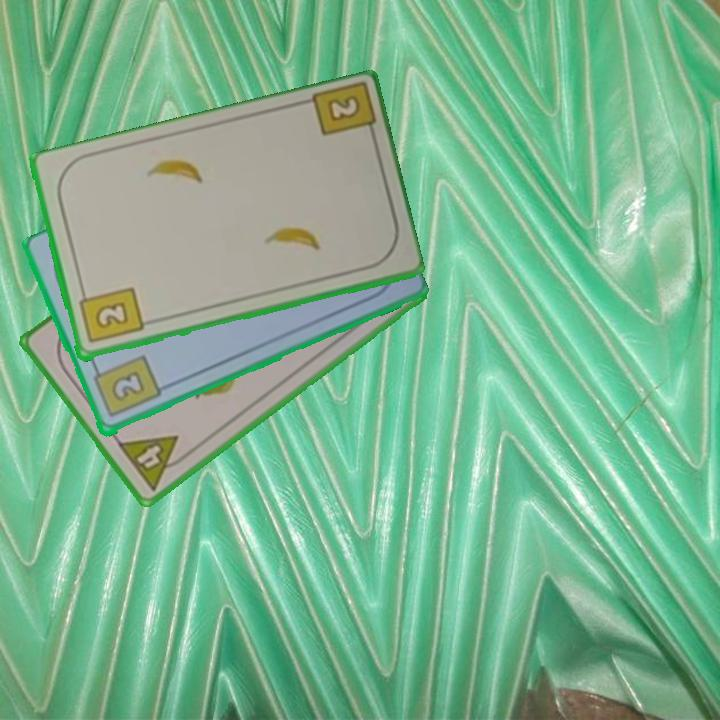2b: (89, 352, 163, 421), (306, 81, 379, 146), (75, 284, 146, 347)
4p: (113, 432, 193, 494)
